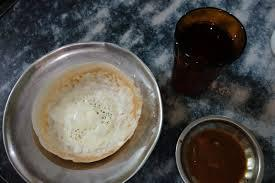Hoppers: (40, 57, 140, 169)
